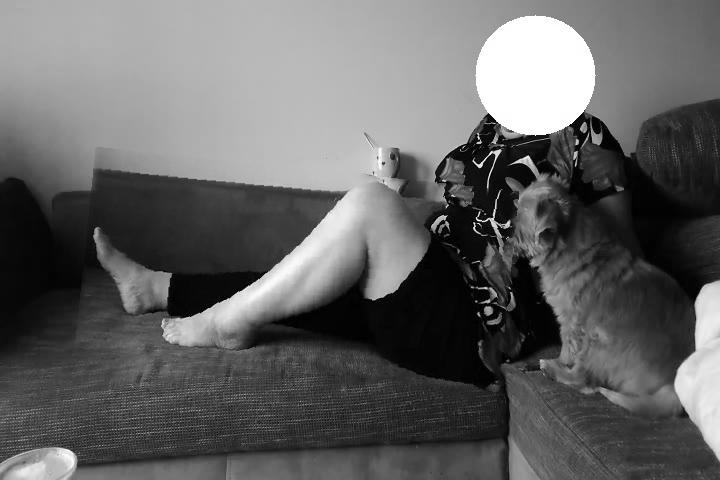lowerbody: (81, 159, 516, 383)
